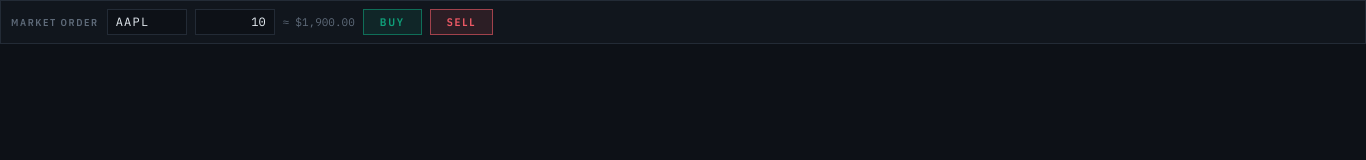
Test: TradeBar › shows the backend's reason when a trade is rejected
Click the button with test id "trade-buy": [392, 22] box [363,9,422,35]
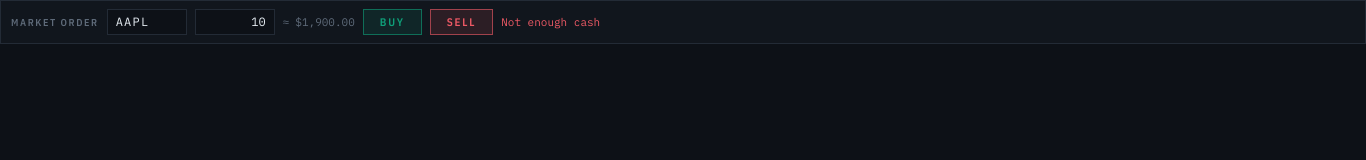
Now the message with test id "trade-notice" reads "Not enough cash", box [501,15,600,29]
